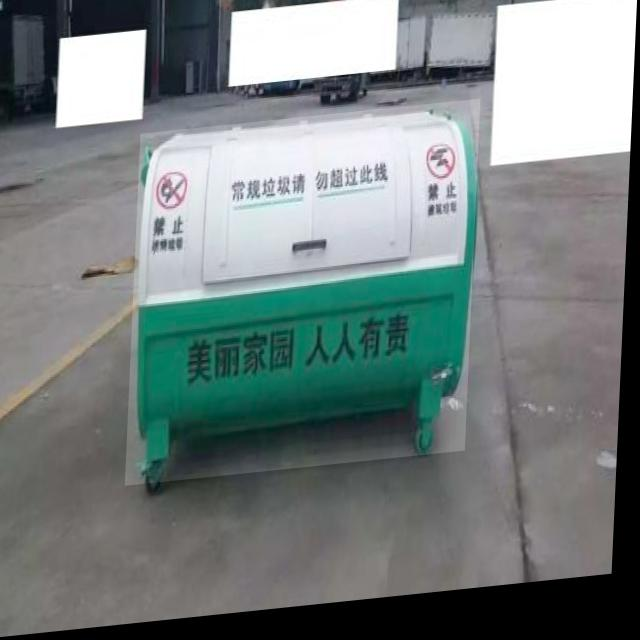garbage_bin: (130, 110, 482, 489)
